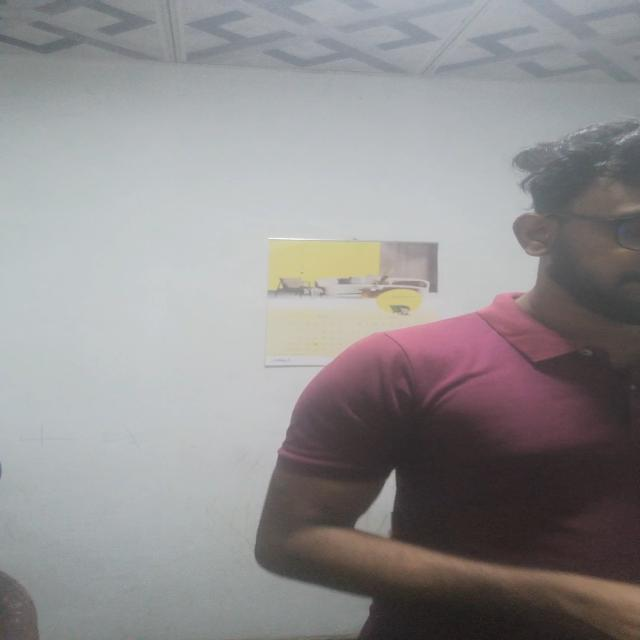Person: (259, 123, 640, 640)
